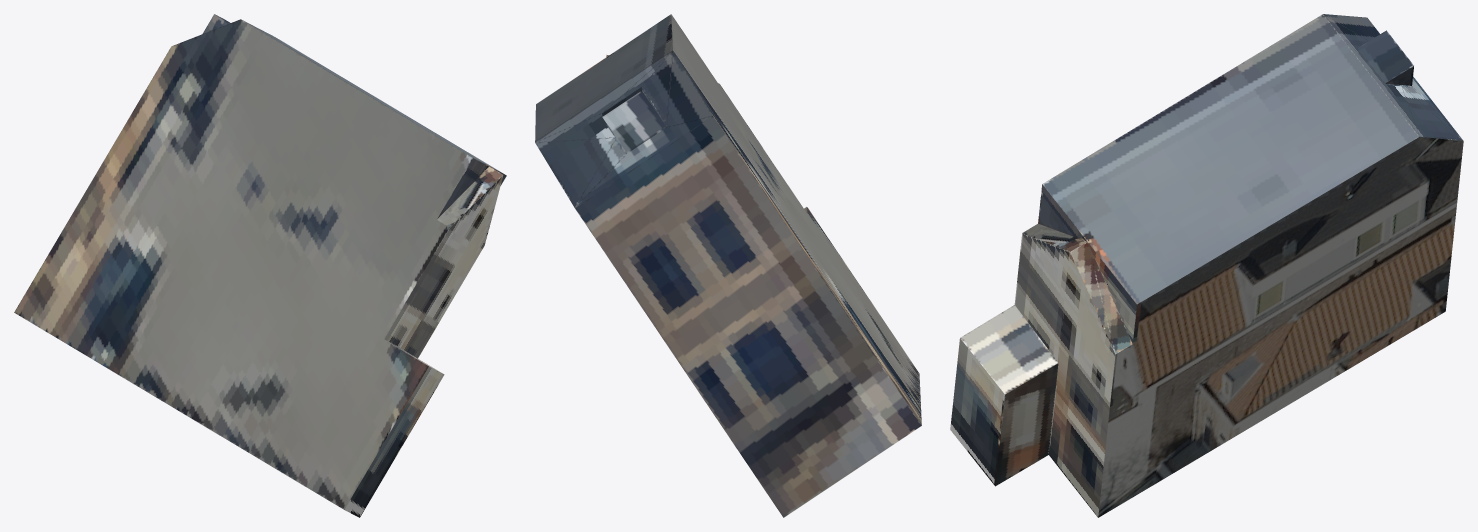
The picture shows the model from 3 angles, left to right: view 1: azimuth 30°, elevation 25°; view 2: azimuth 150°, elevation 25°; view 3: azimuth 270°, elevation 25°; orthographic projection. The views are drawn at different scales.
Visible parts, largest first — view 1: BAG_0599100000650091 (×6); view 2: BAG_0599100000650091 (×5); view 3: BAG_0599100000650091 (×6).
Part boxes in pixels (x1,y1,x2,y2): BAG_0599100000650091 (×6): (14, 14, 506, 517); BAG_0599100000650091 (×5): (535, 14, 921, 517); BAG_0599100000650091 (×6): (950, 14, 1463, 517).
Size of the model in its own units: 14.81 by 14.46 by 13.36.
Materials: 6 (6 with a texture image).
